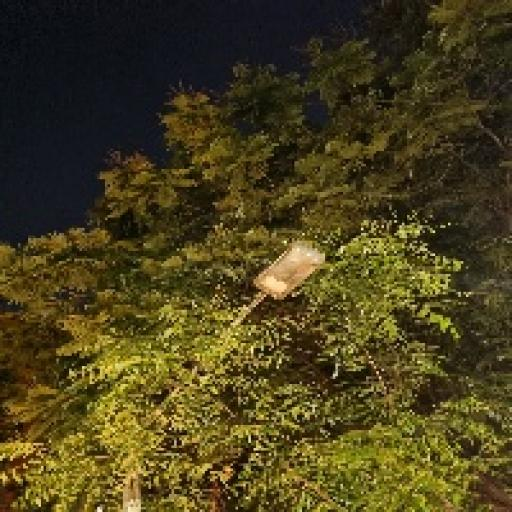Not Working: (236, 228, 333, 327)
